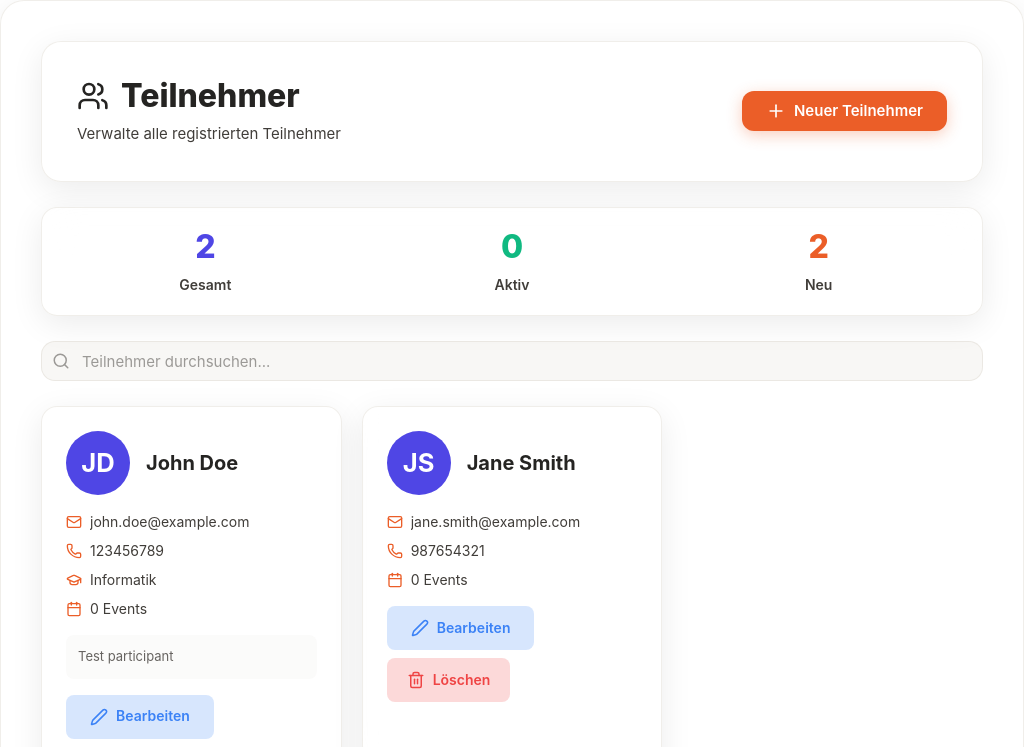
Test: ParticipantsPage › should filter participants by search query
Check: the heading "John Doe" is shown, box [146,451,238,475]
In the field with placeholder "Teilnehmer durchsuchen...": (512, 361) [41,341,983,381], type "John"
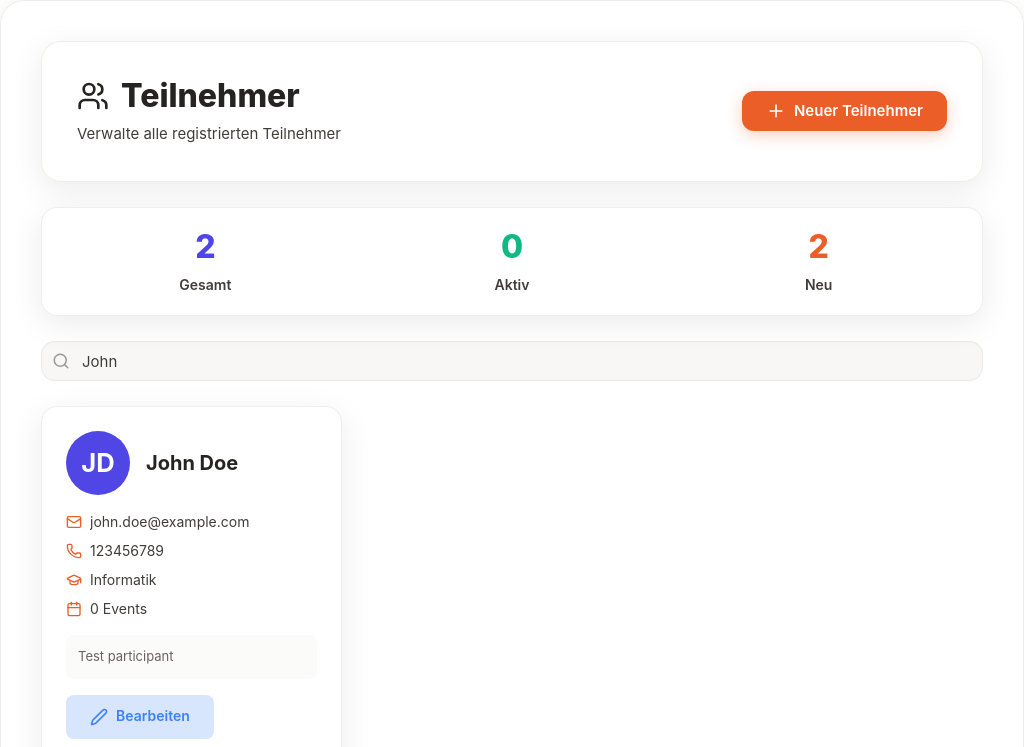
Check: the heading "John Doe" is shown, box [146,451,238,475]
Check: the heading "Jane Smith" is gone
